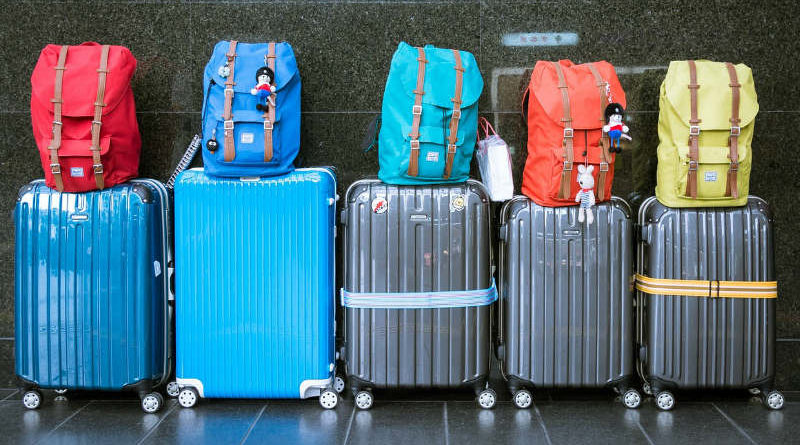backpack: (28, 40, 143, 191), (377, 38, 486, 188), (518, 59, 626, 206), (195, 38, 305, 179), (653, 57, 754, 210)
bag: (476, 118, 517, 203)
luggage: (168, 164, 345, 411), (11, 178, 172, 418), (339, 176, 503, 411), (633, 195, 786, 414), (495, 194, 643, 411)
